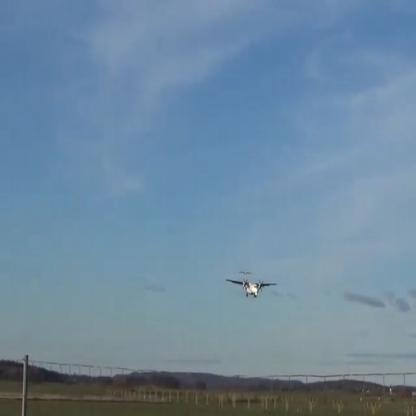CIV_Plane: (226, 272, 278, 298)
